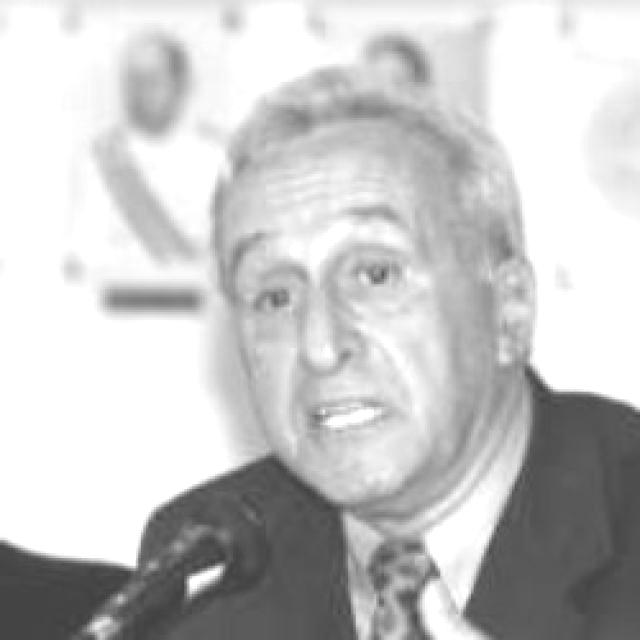real: (218, 130, 496, 506), (235, 235, 420, 325)
